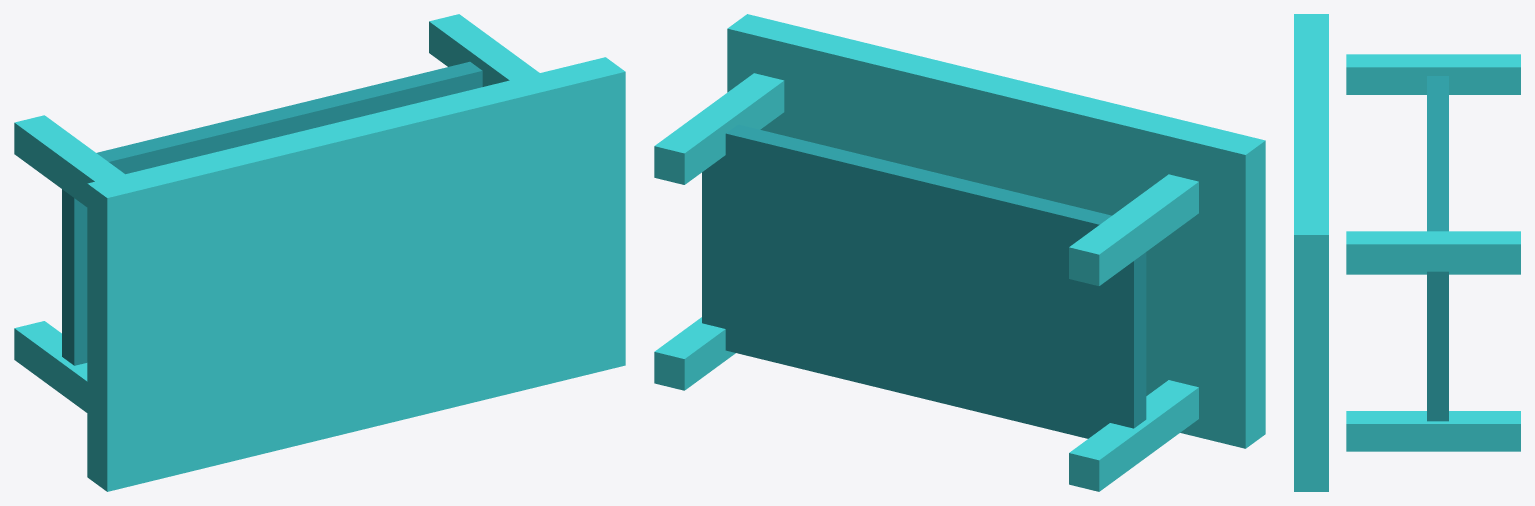
Rendered from coffee-table.glb.
3 renders of one model, left to right at view 1: azimuth 30°, elevation 25°; view 2: azimuth 150°, elevation 25°; view 3: azimuth 270°, elevation 25°, orthographic. The views are drawn at different scales.
Parts seen in each view (by area): view 1: world; view 2: world; view 3: world.
Part boxes in pixels (bbox=[...]): world: bbox=[14, 14, 625, 491]; world: bbox=[654, 14, 1265, 491]; world: bbox=[1294, 14, 1520, 491].
Size of the model in its own units: 1.2 by 0.65 by 0.52.
